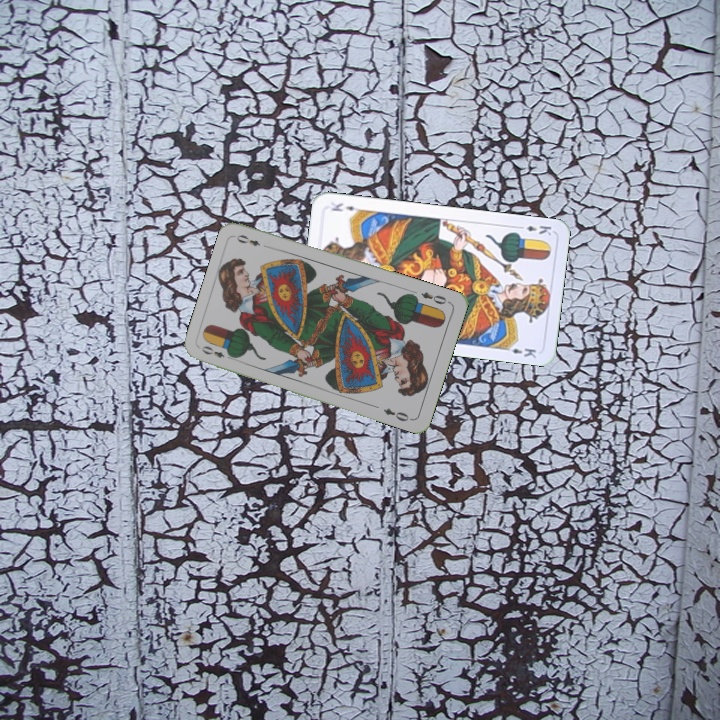EK: (513, 221, 554, 238)
EO: (197, 342, 236, 363), (417, 288, 452, 307)
